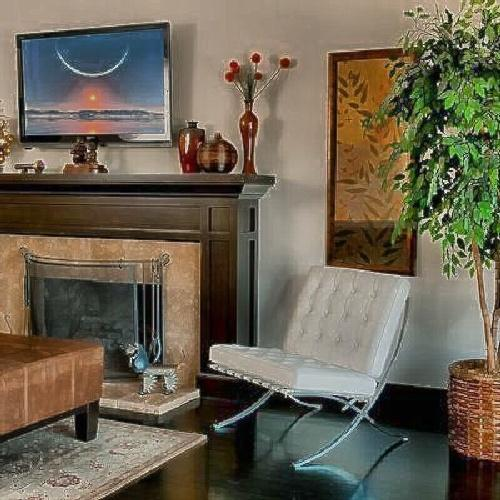chair: (226, 260, 407, 458)
